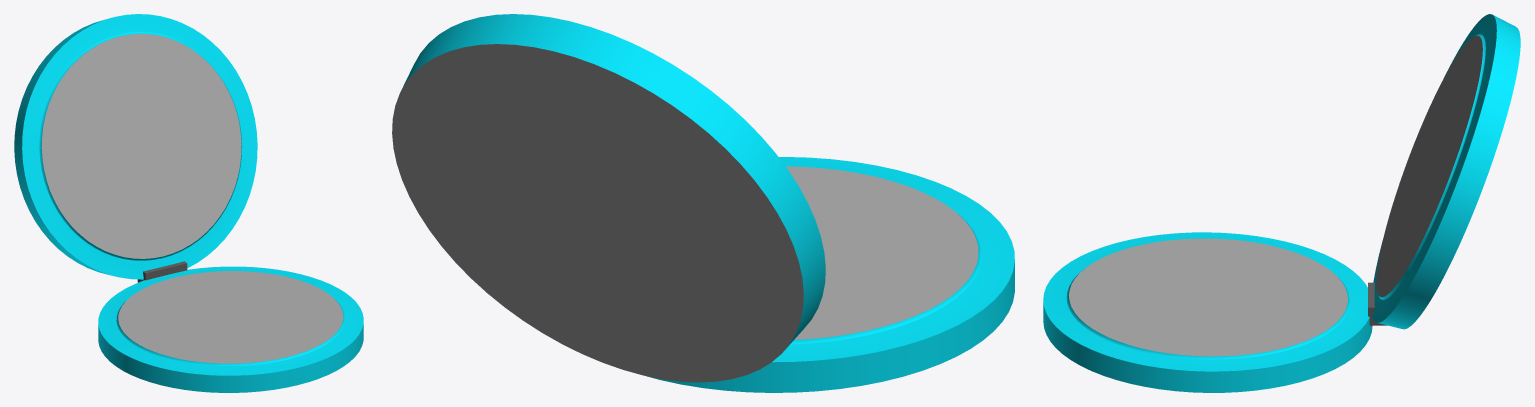
File: compact 1.fbx
The picture shows the model from 3 angles, left to right: view 1: azimuth 30°, elevation 25°; view 2: azimuth 150°, elevation 25°; view 3: azimuth 270°, elevation 25°; orthographic projection. The views are drawn at different scales.
Parts seen in each view (by area): view 1: base2; view 2: base2; view 3: base2.
Boxes of the visible parts, left/top/right/bottom form: base2: left=14, top=14, right=363, bottom=392; base2: left=392, top=14, right=1014, bottom=392; base2: left=1043, top=14, right=1520, bottom=392.
Bounding box in the file's own units: 93.21 × 92.1 × 135.
